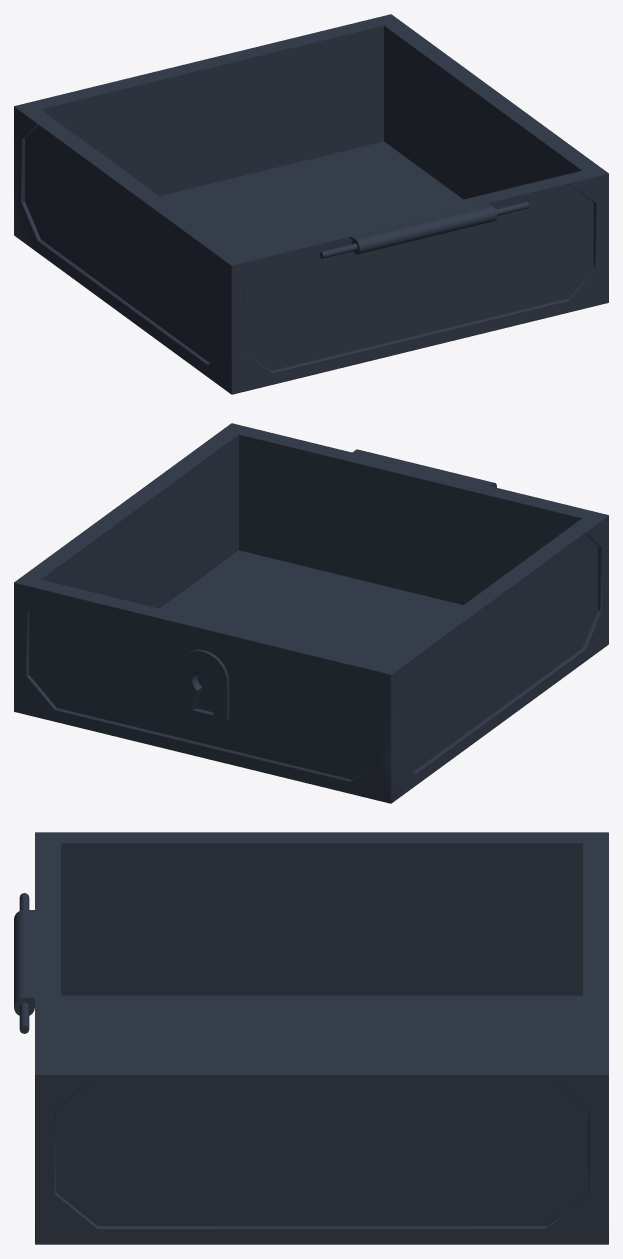
Rendered from closed-box_base.obj.
3 views of the same model, one above another, from view 1: azimuth 30°, elevation 25°; view 2: azimuth 150°, elevation 25°; view 3: azimuth 270°, elevation 25° (orthographic). The views are drawn at different scales.
Visible parts, largest first — view 1: closed-box_base; view 2: closed-box_base; view 3: closed-box_base.
Part boxes in pixels (<box>): closed-box_base: <box>14,14,608,394</box>; closed-box_base: <box>14,423,608,803</box>; closed-box_base: <box>14,832,608,1244</box>.
Size of the model in its own units: 550 by 180 by 570.
